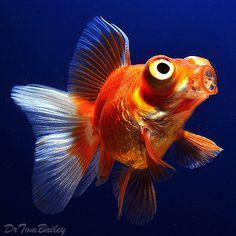goldfish: (38, 33, 231, 217)
